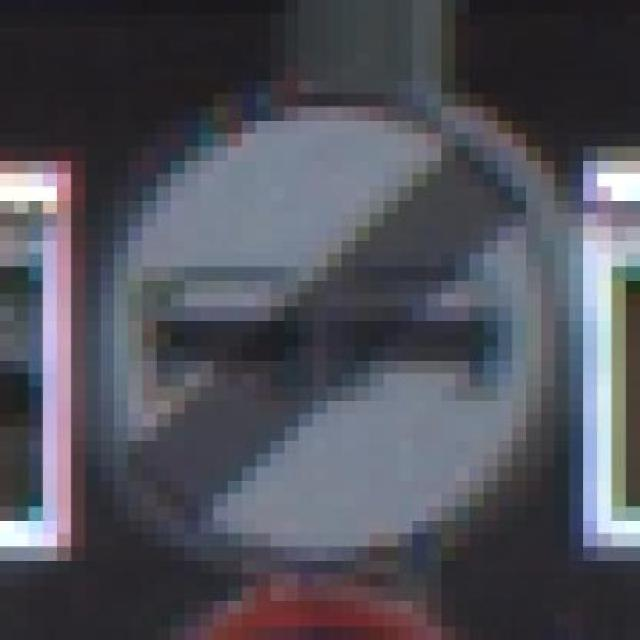No_Over_Taking: (56, 39, 612, 587)
